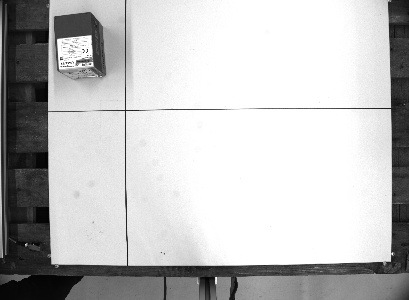b4: (51, 10, 109, 81)
